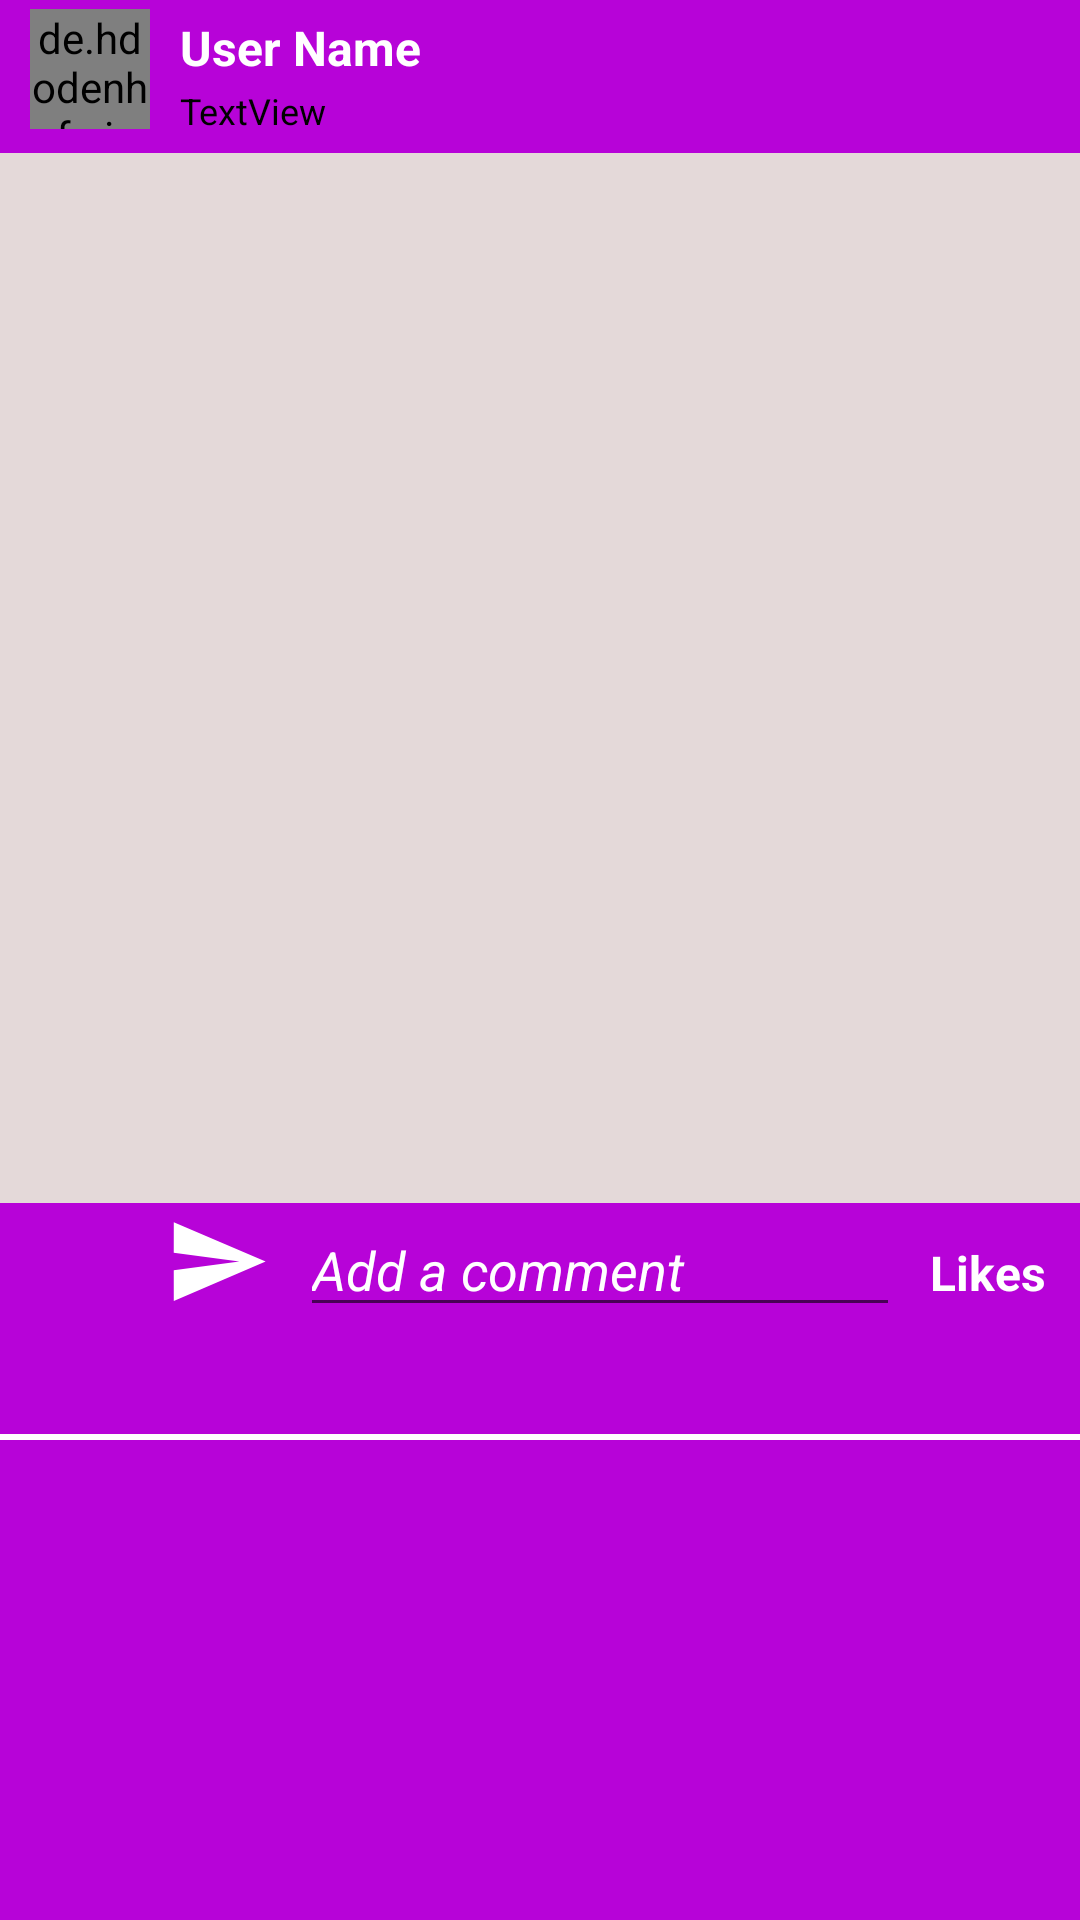

Icon bounding boxes for this 1080 × 1920 phone screenshot, format bbox(x1, y1, x2, y2):
send: bbox(173, 1222, 266, 1301)
